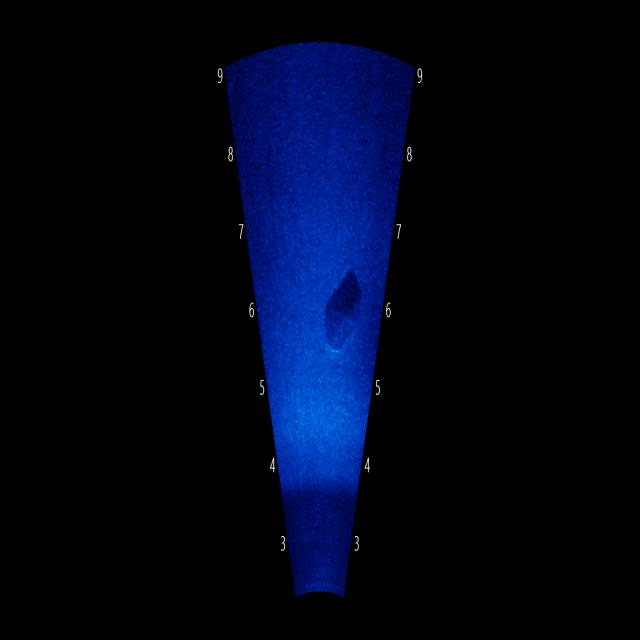square: (321, 250, 368, 368)
